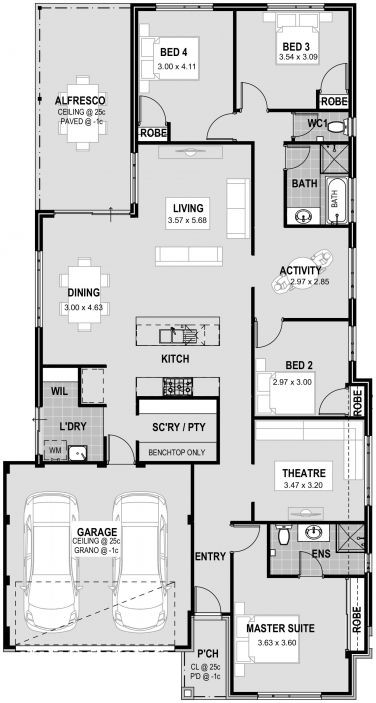door: (138, 94, 169, 123), (202, 111, 233, 140), (237, 79, 268, 108), (316, 59, 347, 88), (232, 523, 261, 553), (295, 546, 324, 576), (192, 581, 221, 611), (253, 322, 282, 350), (106, 432, 135, 460), (316, 387, 345, 415), (286, 144, 312, 171)
room: (130, 3, 237, 144), (233, 2, 354, 111), (250, 415, 371, 523), (251, 317, 356, 418), (134, 395, 220, 463), (284, 107, 356, 143)
window: (33, 248, 43, 327), (363, 435, 372, 506), (257, 691, 320, 701), (346, 247, 357, 298), (34, 405, 44, 455), (129, 151, 138, 204), (155, 3, 213, 11), (266, 3, 324, 11), (346, 325, 358, 363), (346, 177, 356, 222)
